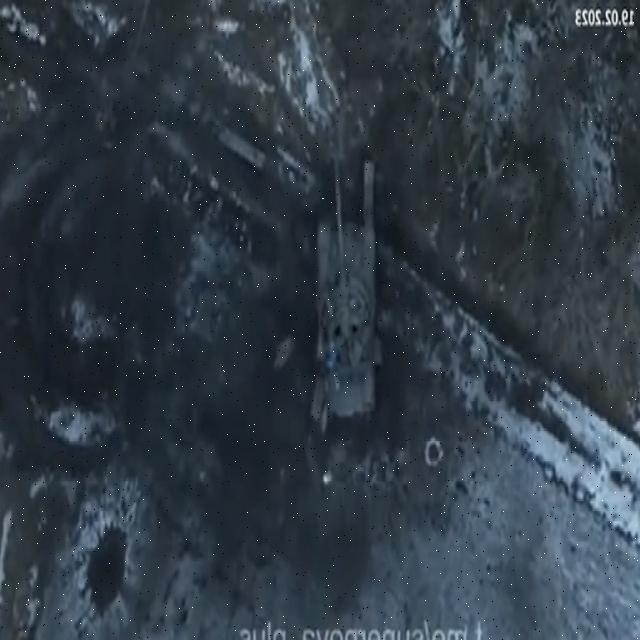TANK: (306, 156, 385, 424)
